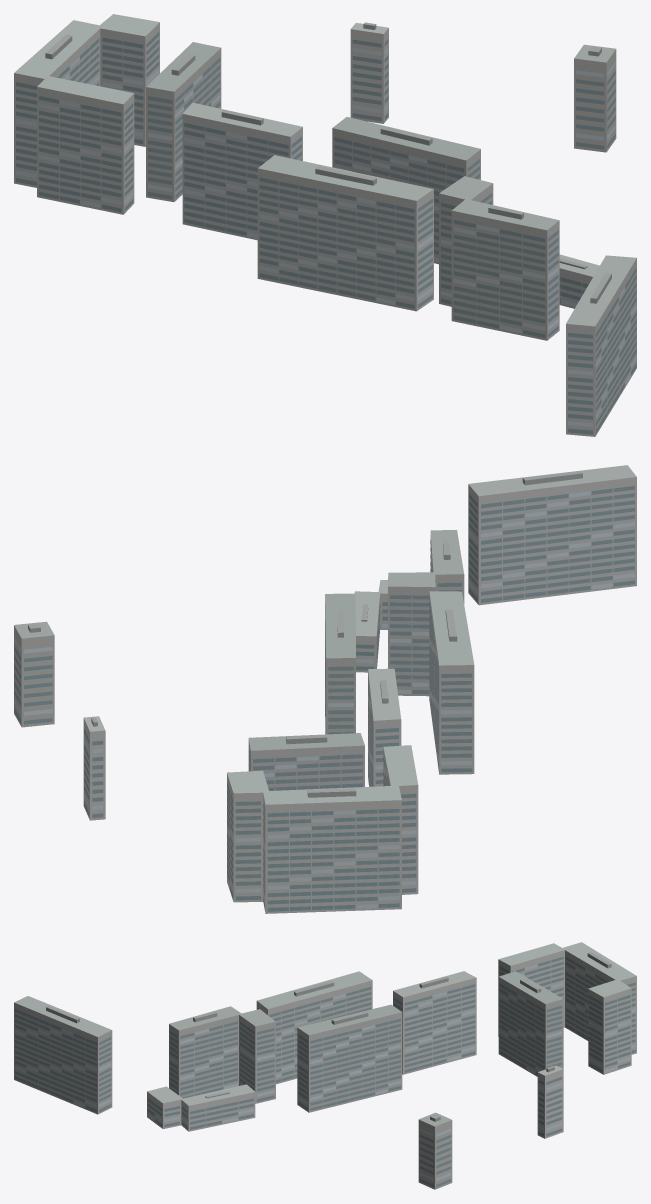
Rendered from apt-a12009102.glb.
3 renders of one model, top to bottom at view 1: azimuth 30°, elevation 25°; view 2: azimuth 150°, elevation 25°; view 3: azimuth 270°, elevation 25°, orthographic. The views are drawn at different scales.
Visible parts, largest first — view 1: apt-a12009102; view 2: apt-a12009102; view 3: apt-a12009102.
Part boxes in pixels (x1,y1,x2,y2): apt-a12009102: [14, 14, 636, 436]; apt-a12009102: [14, 465, 636, 913]; apt-a12009102: [14, 942, 636, 1189].
Size of the model in its own units: 216 by 47.81 by 333.
